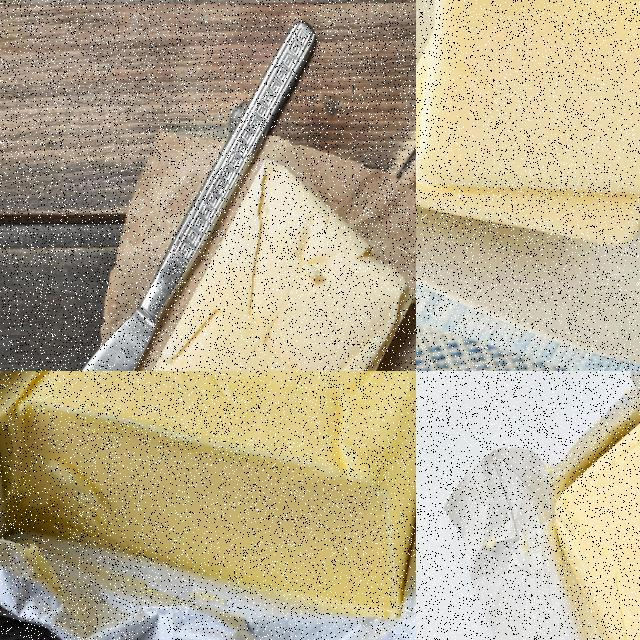Butter: (0, 371, 415, 630), (132, 156, 415, 370), (416, 0, 639, 248), (552, 409, 639, 639)
